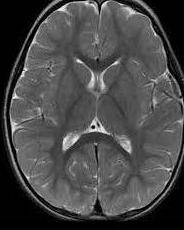Normal_Brain: (1, 1, 184, 230)
